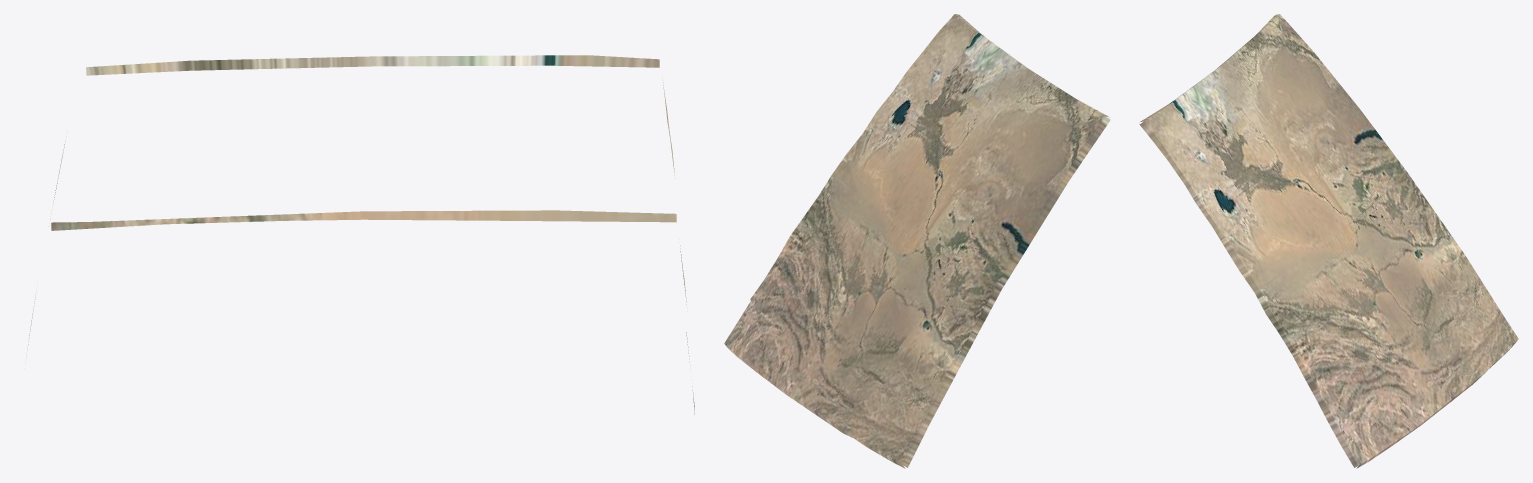
3 views of the same model, side by side, from view 1: azimuth 30°, elevation 25°; view 2: azimuth 150°, elevation 25°; view 3: azimuth 270°, elevation 25° (orthographic). The views are drawn at different scales.
Bounding box in the file's own units: 1238214 × 983796 × 1168724.
Materials: 1 (1 with a texture image).
